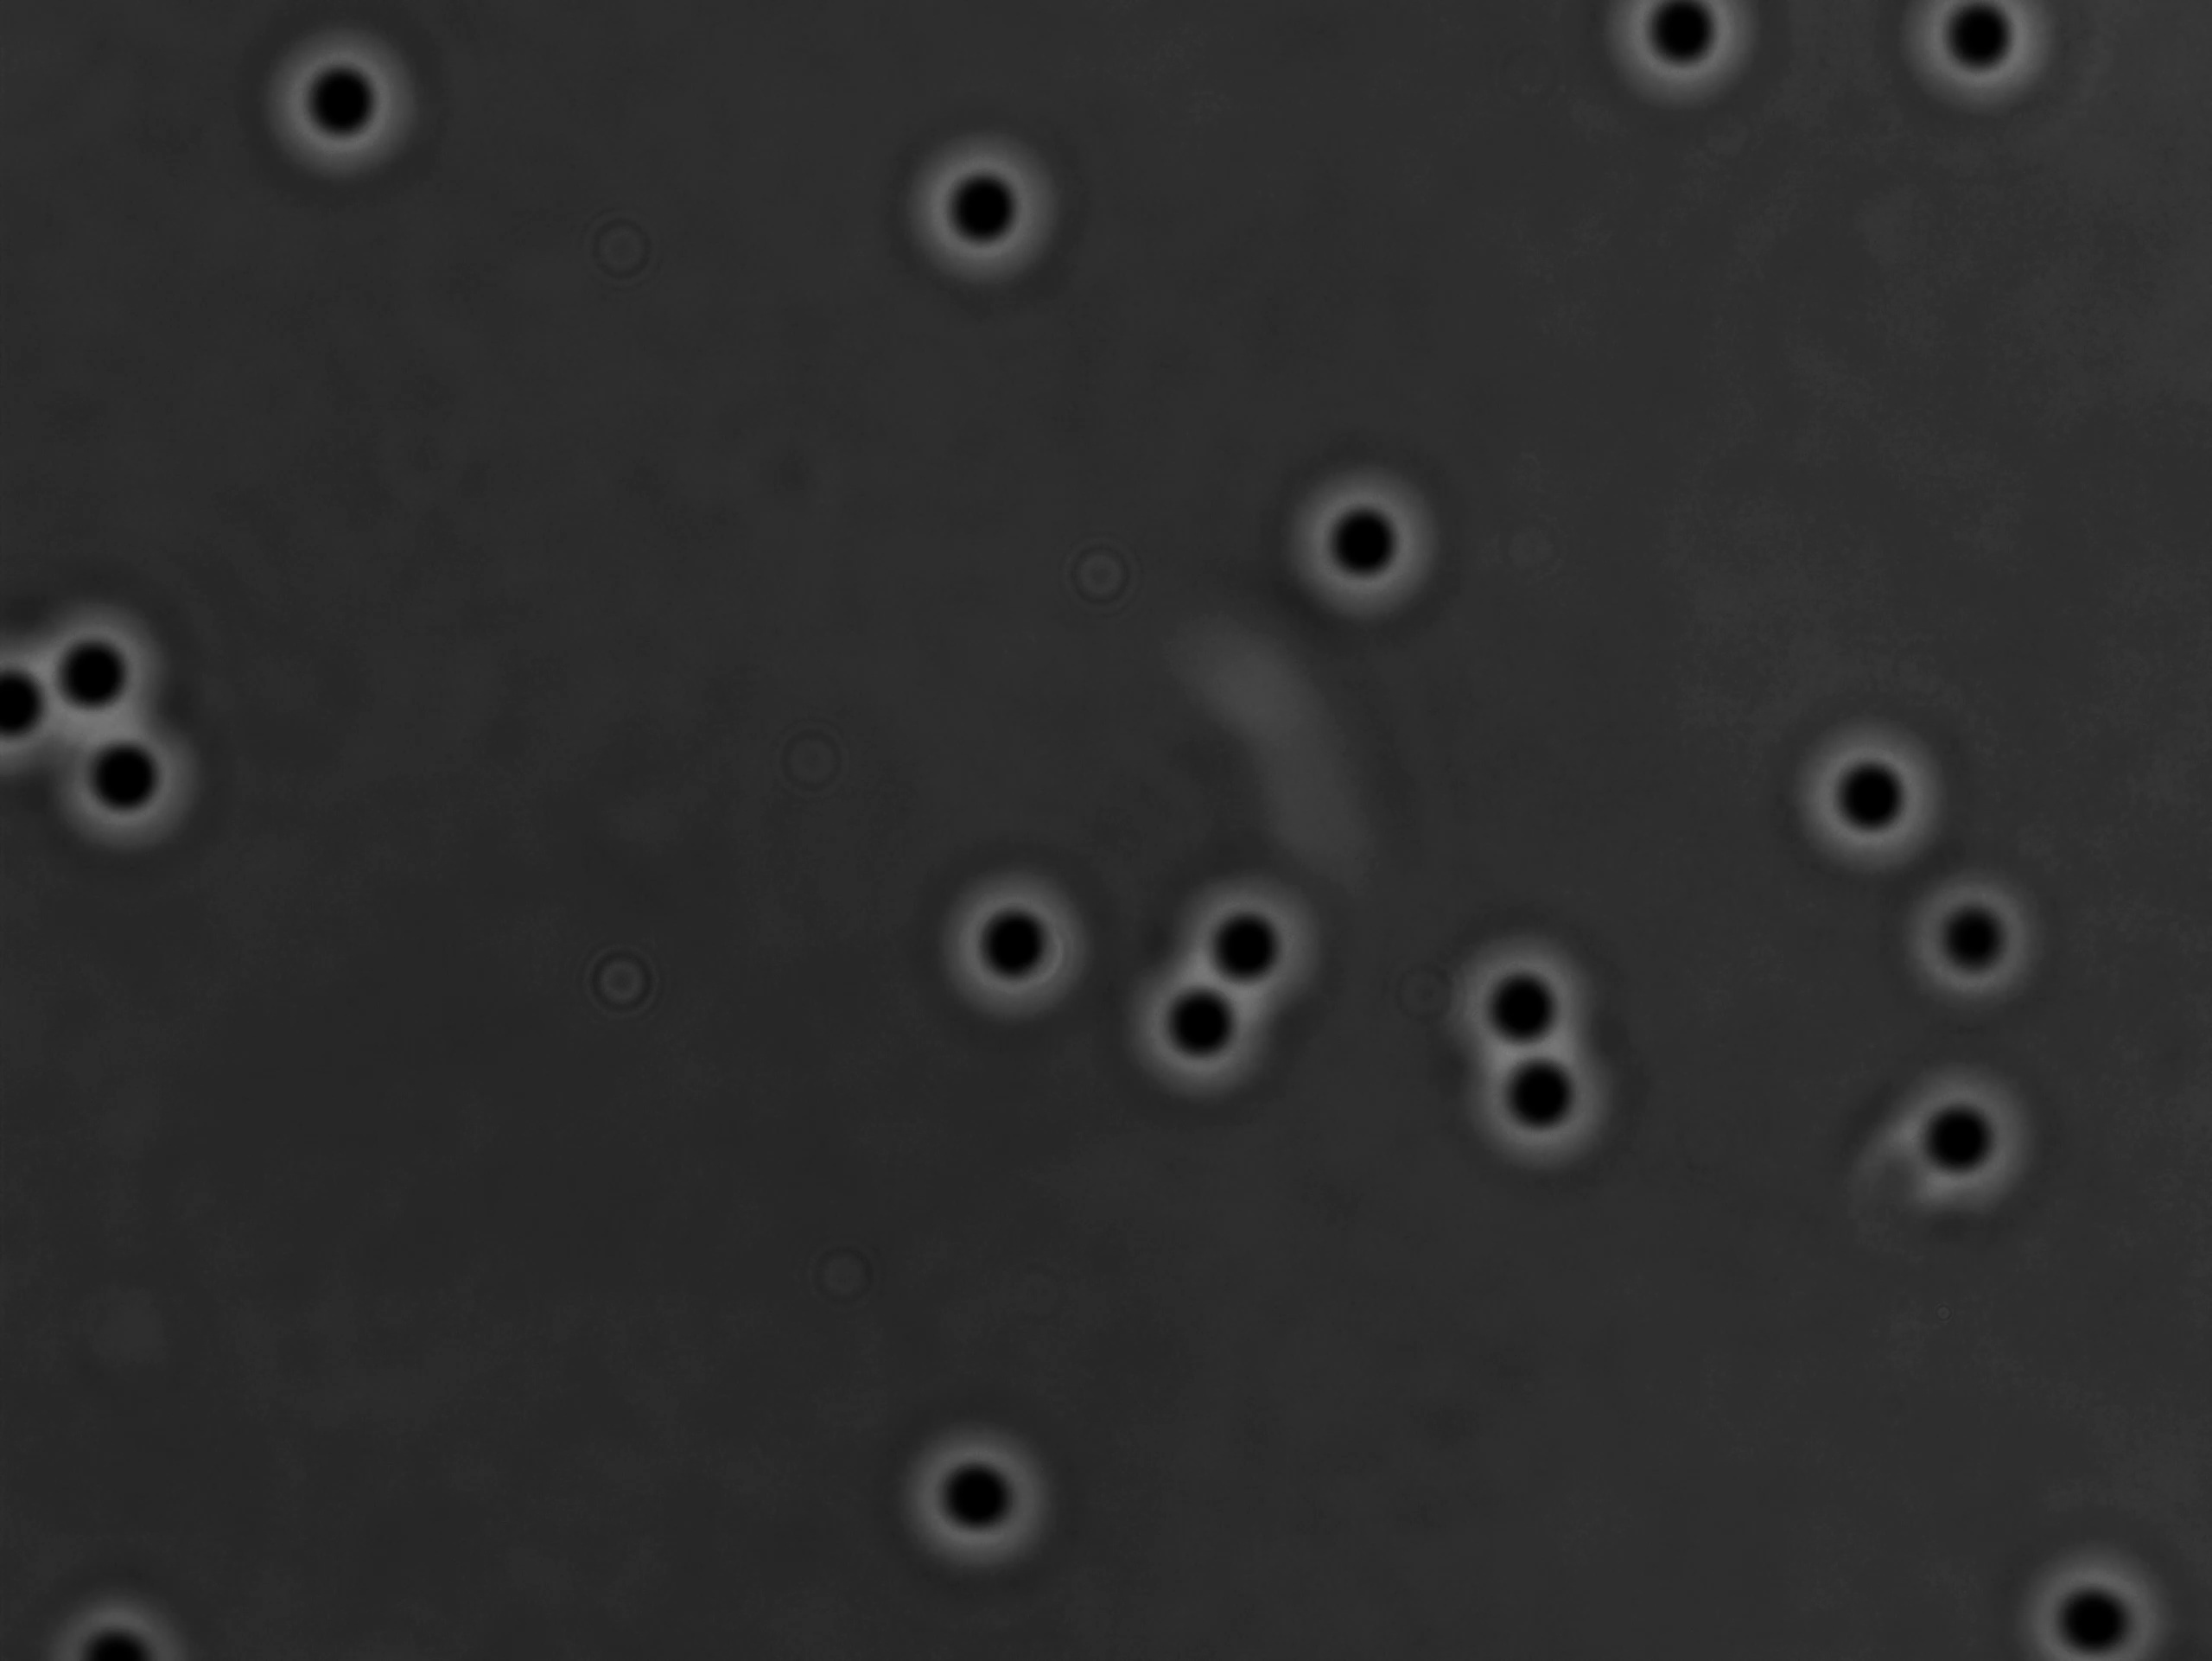depth:-80: (1266, 434, 1467, 637), (1772, 696, 1980, 892), (1874, 843, 2076, 1040), (26, 684, 229, 874), (883, 1399, 1085, 1589), (914, 836, 1108, 1026), (10, 571, 208, 752), (1160, 844, 1345, 1035), (898, 122, 1083, 307), (246, 23, 429, 199), (1120, 946, 1303, 1118), (2004, 1514, 2200, 1661), (1462, 1022, 1631, 1186), (1434, 925, 1601, 1083)
